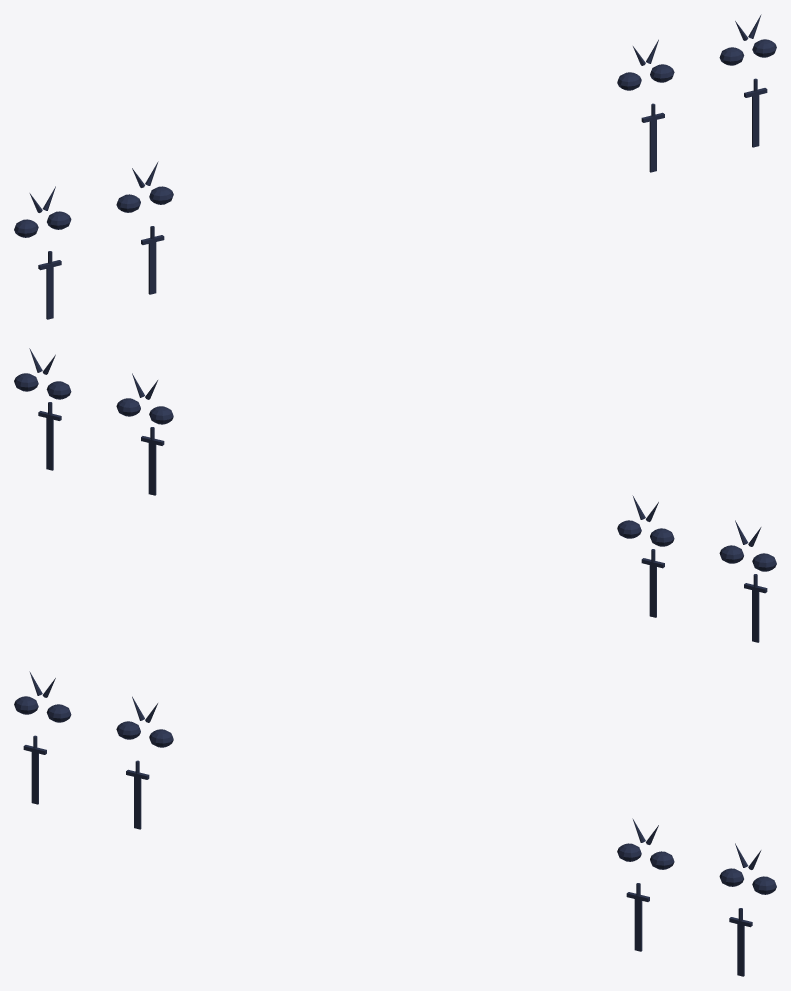
File: EndGuards_ShadowEdge.fbx
3 views of the same model, one above another, from view 1: azimuth 30°, elevation 25°; view 2: azimuth 150°, elevation 25°; view 3: azimuth 330°, elevation 25° (orthographic).
Visible parts, largest first — view 1: EndGuard-1_44Pauldron-1.001; view 2: EndGuard-1_44Pauldron-1.001; view 3: EndGuard-1_44Pauldron-1.001.
Part boxes in pixels (box(x1,y1,x2,y2)): EndGuard-1_44Pauldron-1.001: box(14, 14, 776, 319); EndGuard-1_44Pauldron-1.001: box(14, 348, 776, 642); EndGuard-1_44Pauldron-1.001: box(14, 671, 776, 976).
Bounding box in the file's own units: 13346 × 2077 × 435.
